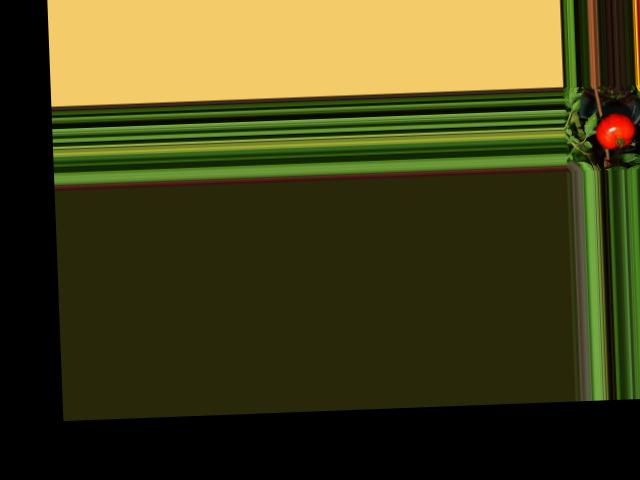tomato: (594, 112, 636, 150)
